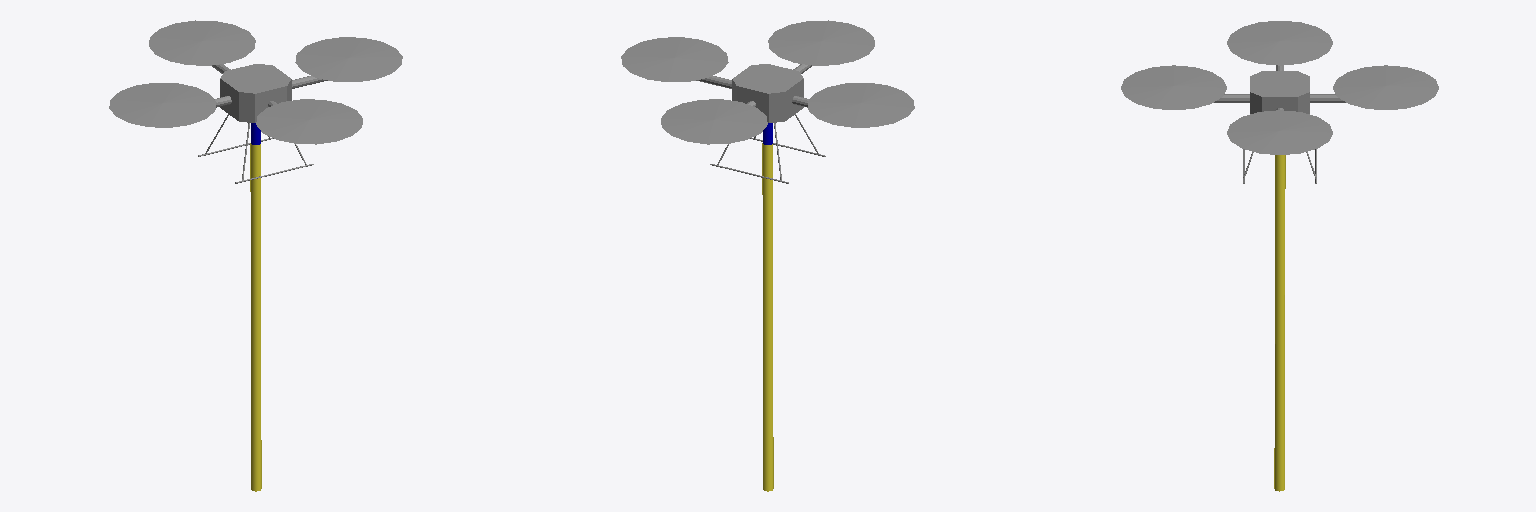
URDF robot description (ct_quadrotor):
<robot name="ct_quadrotor">
    <link name="world" />
    <link name="body">
        <inertial>
            <origin xyz="0.00000 0.00000 0.00000"/>
            <mass value="0.50000"/>
            <inertia ixx="0.03000" iyy="0.03000" izz="0.05000" ixy="-0.00000" ixz="-0.00000" iyz="-0.00000"/>
        </inertial>
        <visual>
            <origin rpy="0 0 0" xyz="0 0 0"/>
                <geometry>
                    <mesh filename="package://ct_models/urdf/Quadrotor/quadrotor_base.dae" scale="0.1 0.1 0.1"/>
                </geometry>
        </visual>
    </link>
    <link name="link1">
        <inertial>
            <origin xyz="0.00000 0.00000 -0.05000"/>
            <mass value="0.10000"/>
            <inertia ixx="-0.00017" iyy="-0.00017" izz="0.00000" ixy="-0.00000" ixz="-0.00000" iyz="-0.00000"/>
        </inertial>
        <visual>
            <origin rpy="0 0 0" xyz="0 0 -0.05"/>
            <geometry>
                <cylinder length="0.1" radius="0.01"/>
            </geometry>
            <material name="blue">
                <color rgba="0 0 .8 1"/>
            </material>
        </visual>
    </link>
    <link name="link2">
        <inertial>
            <origin xyz="0.35000 0.00000 0.00000"/>
            <mass value="0.50000"/>
            <inertia ixx="0.00001" iyy="-0.04083" izz="-0.04083" ixy="-0.00000" ixz="-0.00000" iyz="-0.00000"/>
        </inertial>
        <visual>
        <origin rpy="0 1.57 0" xyz="0.35 0.0 0.0"/>
        <geometry>
           <cylinder length="0.7" radius="0.01"/>
        </geometry>
        </visual>
    </link>
    <joint name="fbj" type="floating">
        <parent link="world"/>
        <child  link="body"/>
    </joint>
    <joint name="jA" type="revolute">
        <origin xyz="0.00000 0.00000 0.00000" rpy="0.0 0.0 0.0"/>
        <parent link="body"/>
        <child  link="link1"/>
        <limit effort="30" velocity="1.0"/>
        <axis xyz="0 0 1"/>
    </joint>
    <joint name="jB" type="revolute">
        <origin xyz="0.00000 0.00000 -0.10000" rpy="-2.3561944901923457 1.5707962635746238 2.3561944901923457"/>
        <parent link="link1"/>
        <child  link="link2"/>
        <limit effort="30" velocity="1.0"/>
        <axis xyz="0 0 1"/>
    </joint>
</robot>

--- Render facts (derived) ---
3 views of the same robot in one strip: view 1: azimuth 30°, elevation 25°; view 2: azimuth 150°, elevation 25°; view 3: azimuth 270°, elevation 25° (orthographic).
Model ct_quadrotor with 4 links and 3 joints (2 revolute, 1 floating), rooted at world, posed every joint at zero.
Links seen in each view (by area): view 1: body, link2; view 2: body, link2; view 3: body, link2.
Boxes of the visible links, x1,y1,x2,y2 form: body: [109, 20, 402, 183]; link2: [250, 143, 261, 491]; body: [621, 20, 914, 183]; link2: [762, 143, 773, 491]; body: [1121, 21, 1438, 183]; link2: [1274, 155, 1285, 491].
Bounding box of the posed robot: 0.5924 × 0.5924 × 0.83 m (x, y, z).
1 mesh visuals loaded from 1 distinct referenced files (1 Collada DAE).
